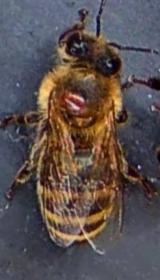varroa_mite: (52, 80, 94, 114)
